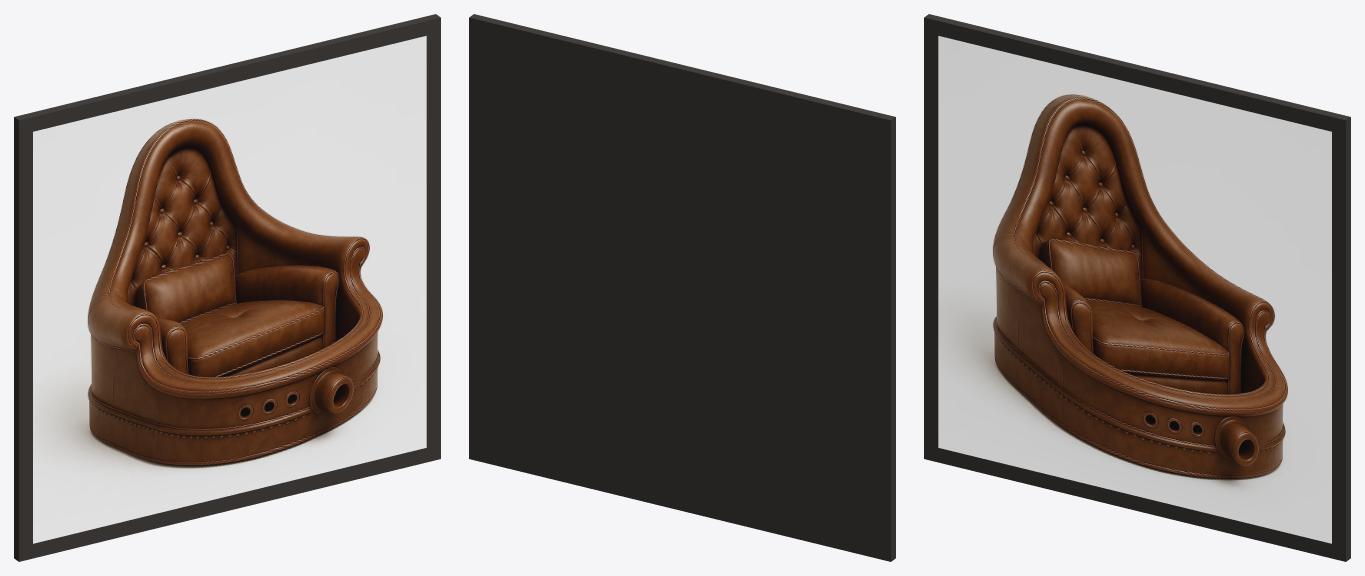
Rendered from picture_04_leather_chair.glb.
The picture shows the model from 3 angles, left to right: view 1: azimuth 30°, elevation 25°; view 2: azimuth 150°, elevation 25°; view 3: azimuth 330°, elevation 25°; orthographic projection.
Parts seen in each view (by area): view 1: picture_04_leather_chair_nocol; view 2: picture_04_leather_chair_nocol; view 3: picture_04_leather_chair_nocol.
Boxes of the visible parts, x1=… form: picture_04_leather_chair_nocol: x1=14, y1=14, x2=440, y2=561; picture_04_leather_chair_nocol: x1=469, y1=14, x2=895, y2=561; picture_04_leather_chair_nocol: x1=924, y1=14, x2=1350, y2=561.
Bounding box in the file's own units: 1.5 × 1.5 × 0.03.
2 materials, 1 textured.
